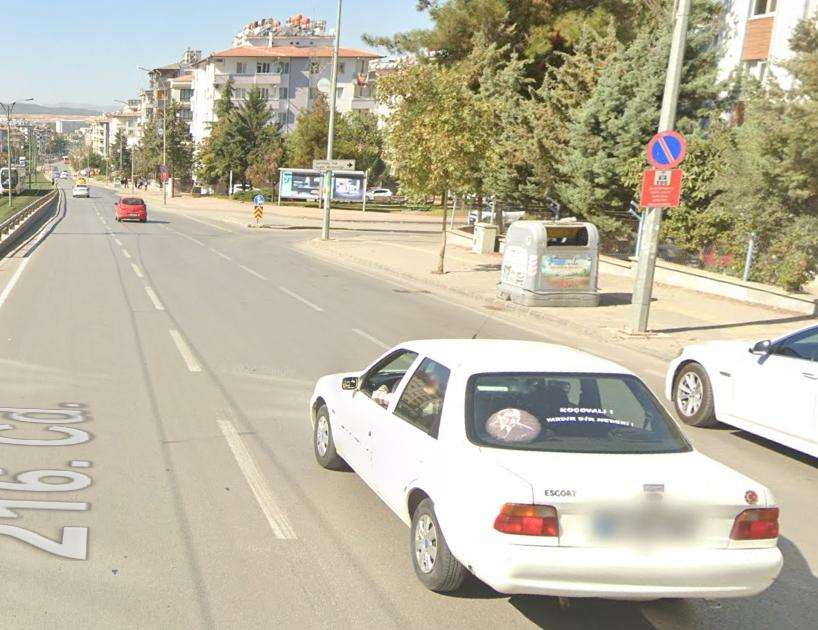nopark: (646, 131, 685, 169)
